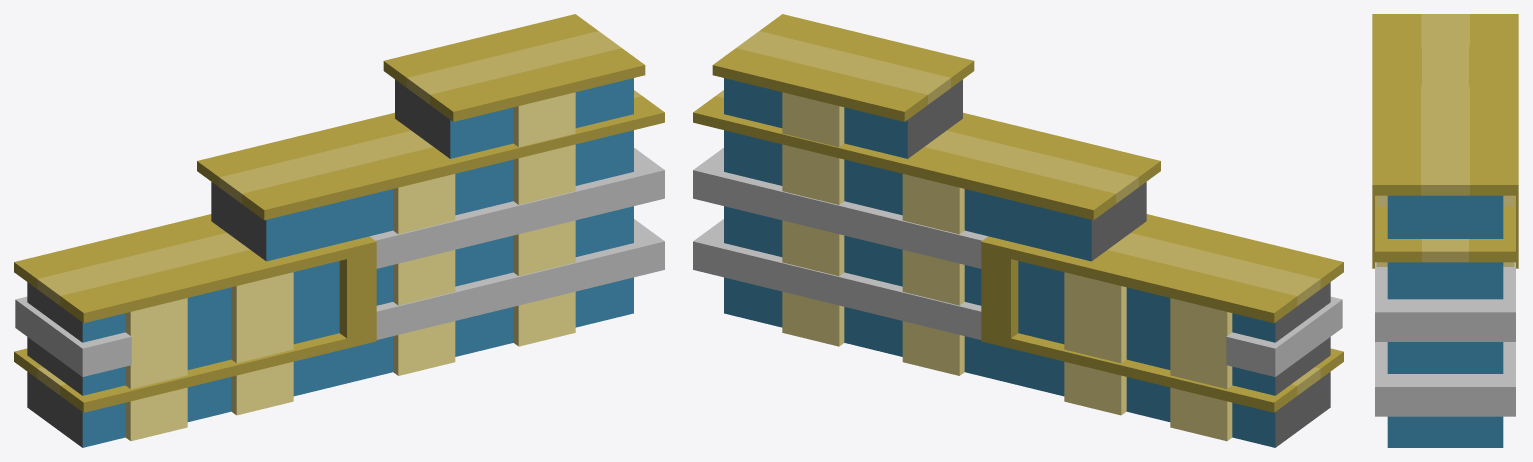
File: Bld_12.fbx
3 renders of one model, left to right at view 1: azimuth 30°, elevation 25°; view 2: azimuth 150°, elevation 25°; view 3: azimuth 270°, elevation 25°, orthographic. The views are drawn at different scales.
Parts seen in each view (by area): view 1: Cube.016; view 2: Cube.016; view 3: Cube.016.
Part boxes in pixels (box(x1,y1,x2,y2)): Cube.016: box(14, 14, 664, 447); Cube.016: box(693, 14, 1343, 447); Cube.016: box(1372, 14, 1518, 447).
Bounding box in the file's own units: 2613 × 1084 × 542.
